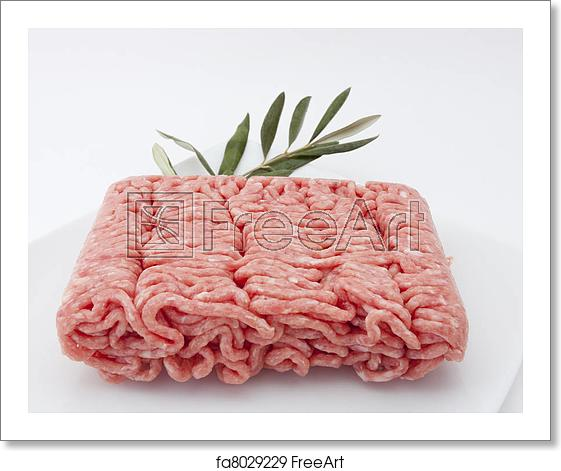ground_beef: (86, 170, 466, 367)
